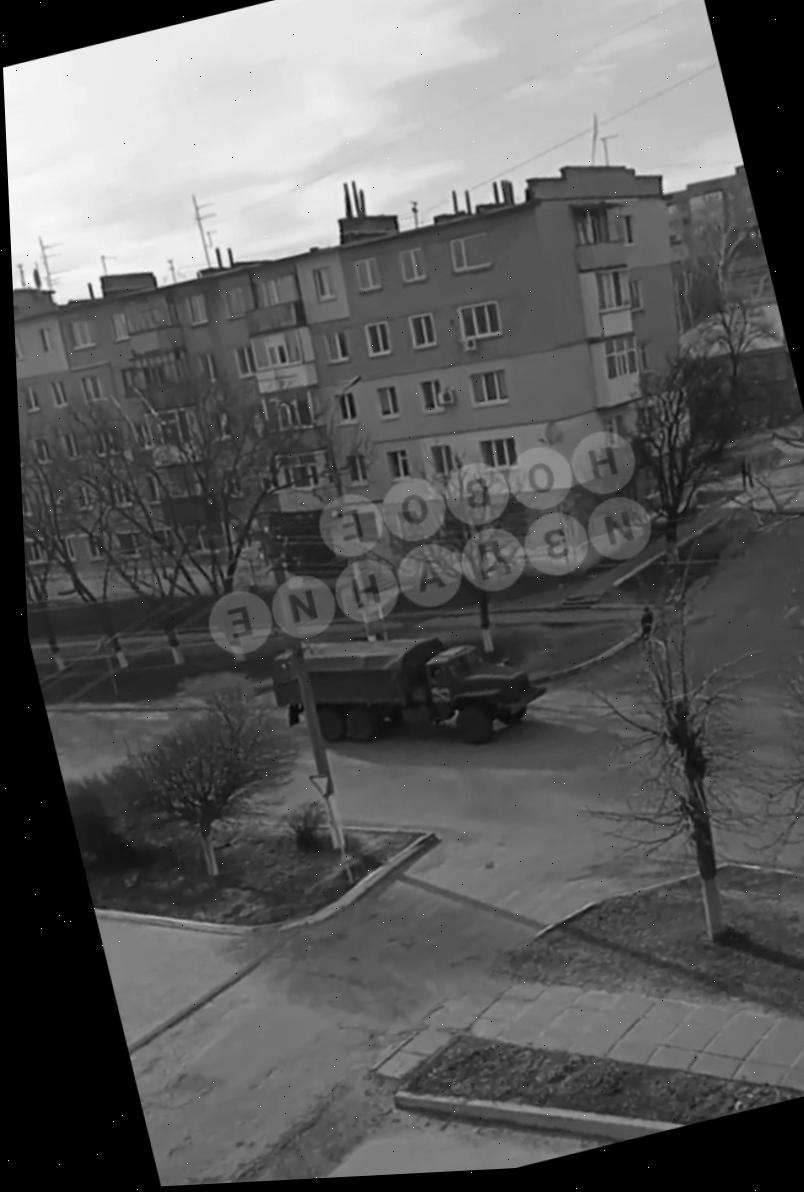truck: (261, 585, 559, 789)
